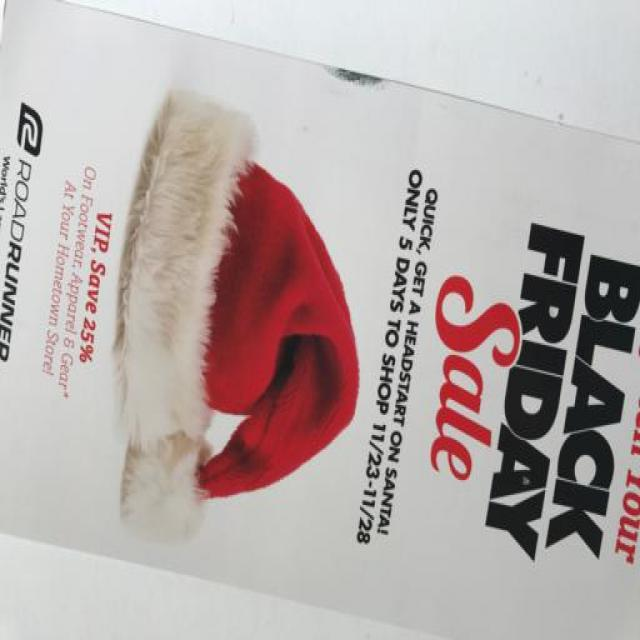paper: (1, 6, 640, 640)
